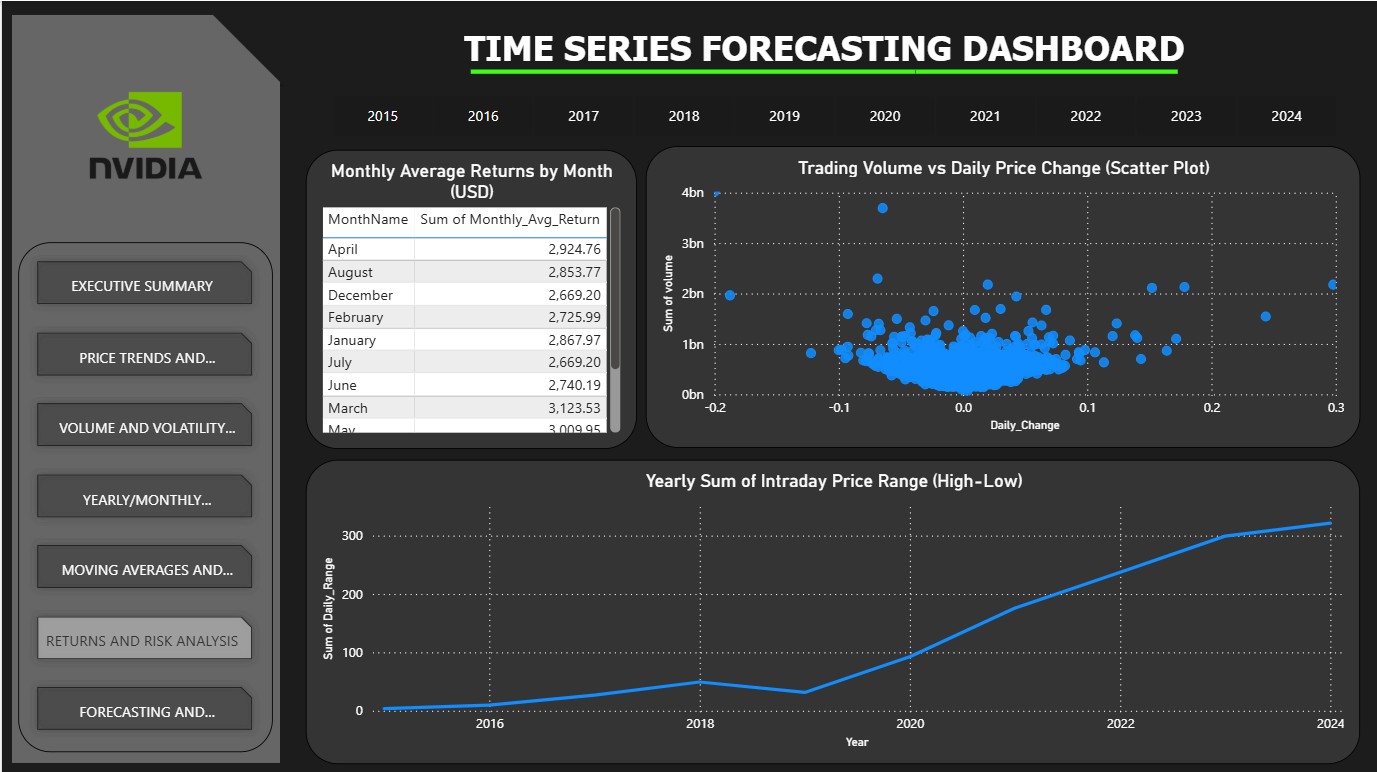

The dashboard page shown, as its layout file describes it:
{"tool":"powerbi","page":{"name":"RETURNS AND RISK ANALYSIS","canvas":[1280,720],"ordinal":5},"visuals":[{"type":"shape","box":[9.1,13,249.4,696.1],"z":0,"group":"g2"},{"type":"shape","box":[190.6,7.8,74.2,73.4],"z":1000},{"type":"image","box":[38.5,33.3,191,184.6],"z":2000,"group":"g2"},{"type":"textbox","box":[264.9,18.9,1000,62.2],"z":3000},{"type":"group","id":"g1","title":"Group 1","box":[435.7,33.2,657.2,64],"z":4000},{"type":"shape","box":[435.7,33.2,413.5,64],"z":4000,"group":"g1"},{"type":"shape","box":[849.2,33.2,243.7,64],"z":5000,"group":"g1"},{"type":"slicer","fields":{"Values":["nvidia_stock_cleaned.date.Variation.Date Hierarchy.Year"]},"box":[282.4,81.1,982.4,51.4],"z":5000},{"type":"tableEx","title":"Monthly Average Returns by Month (USD)","fields":{"Values":["nvidia_stock_cleaned.MonthName","Sum(nvidia_stock_cleaned.Monthly_Avg_Return)"]},"box":[283.1,137.8,307.7,278.2],"z":6000},{"type":"scatterChart","title":"Trading Volume vs Daily Price Change (Scatter Plot)","fields":{"X":["nvidia_stock_cleaned.Daily_Change"],"Y":["Sum(nvidia_stock_cleaned.volume)"]},"box":[599.4,135.4,664.6,280.6],"z":7000},{"type":"lineChart","title":"Yearly Sum of Intraday Price Range (High-Low)","fields":{"Category":["nvidia_stock_cleaned.date.Variation.Date Hierarchy.Year","nvidia_stock_cleaned.date.Variation.Date Hierarchy.Quarter","nvidia_stock_cleaned.date.Variation.Date Hierarchy.Month","nvidia_stock_cleaned.date.Variation.Date Hierarchy.Day"],"Y":["Sum(nvidia_stock_cleaned.Daily_Range)"]},"box":[283.1,427.1,980.9,283.1],"z":8000},{"type":"pageNavigator","box":[14.9,224.3,236.5,474.3],"z":9000,"group":"g2"},{"type":"group","id":"g2","title":"Group 2","box":[9.1,13,249.4,696.1],"z":9001}]}

Visuals, with their boxes in screenshot pixels (x1, y1, x2, y2), scaled from the page's 1280x720 canvas onto the 1377x772 screenshot:
shape: region(10, 14, 278, 760)
shape: region(205, 8, 285, 87)
image: region(41, 36, 247, 234)
textbox: region(285, 20, 1361, 87)
"Group 1" group: region(469, 36, 1176, 104)
shape: region(469, 36, 914, 104)
shape: region(914, 36, 1176, 104)
slicer - nvidia_stock_cleaned.date.Variation.Date Hierarchy.Year: region(304, 87, 1361, 142)
"Monthly Average Returns by Month (USD)" tableEx: region(305, 148, 636, 446)
"Trading Volume vs Daily Price Change (Scatter Plot)" scatterChart: region(645, 145, 1360, 446)
"Yearly Sum of Intraday Price Range (High-Low)" lineChart: region(305, 458, 1360, 761)
pageNavigator: region(16, 240, 270, 749)
"Group 2" group: region(10, 14, 278, 760)
